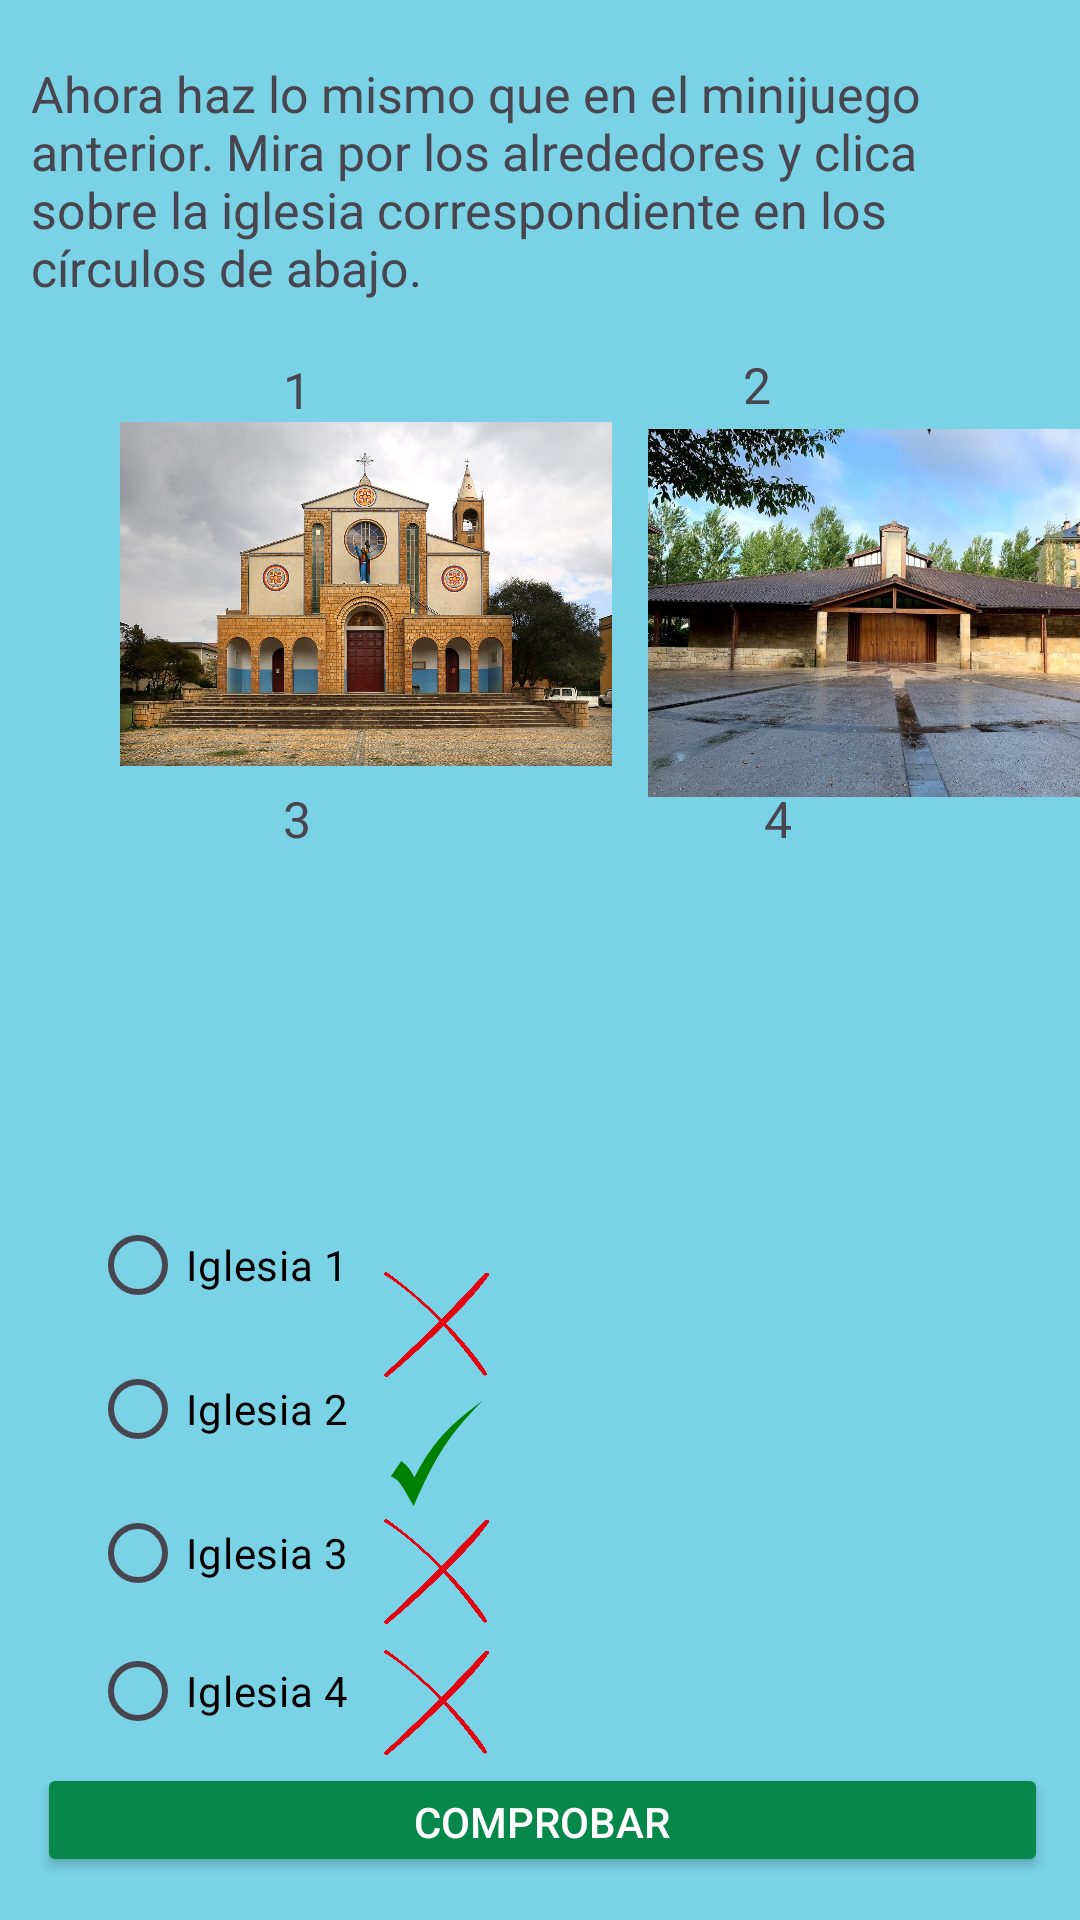

Named icons in this screenshot (1080×1920) and their bounding boxes, (x1,y1,x2,y2):
incorrecto: (384,1272,489,1377), (384,1519,489,1624), (384,1650,489,1755)
tick: (391,1401,482,1506)
